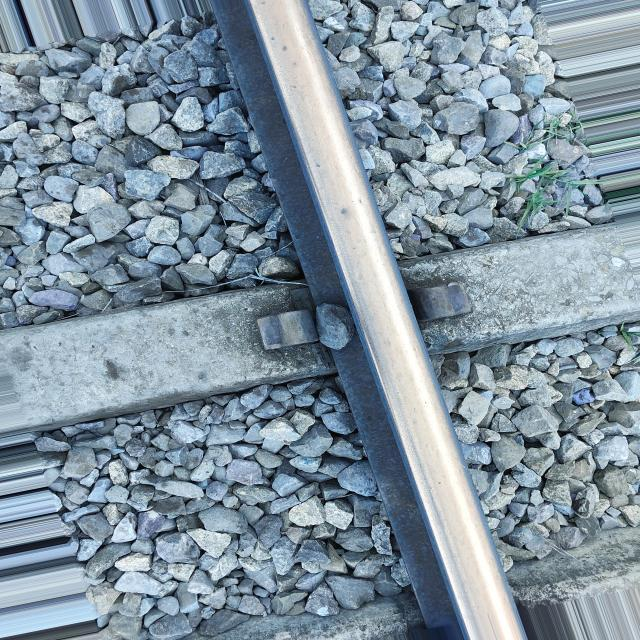Missing Fastener: (408, 282, 473, 323), (257, 309, 319, 350)
